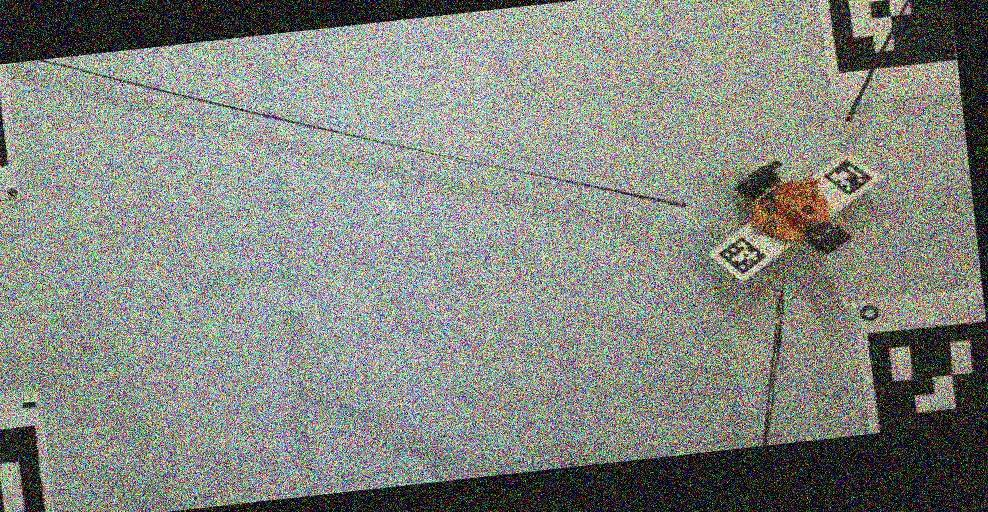robot: (739, 160, 852, 257)
